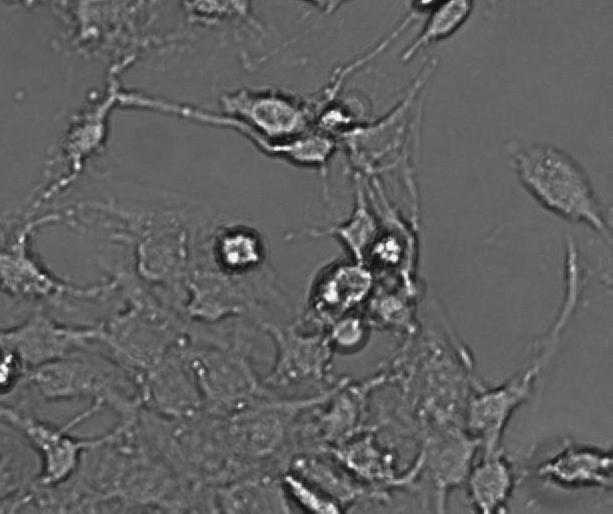Dead: (307, 258, 373, 317), (532, 441, 613, 489), (209, 220, 270, 276), (277, 468, 343, 514), (369, 225, 408, 271), (314, 96, 362, 133), (329, 316, 370, 354)
